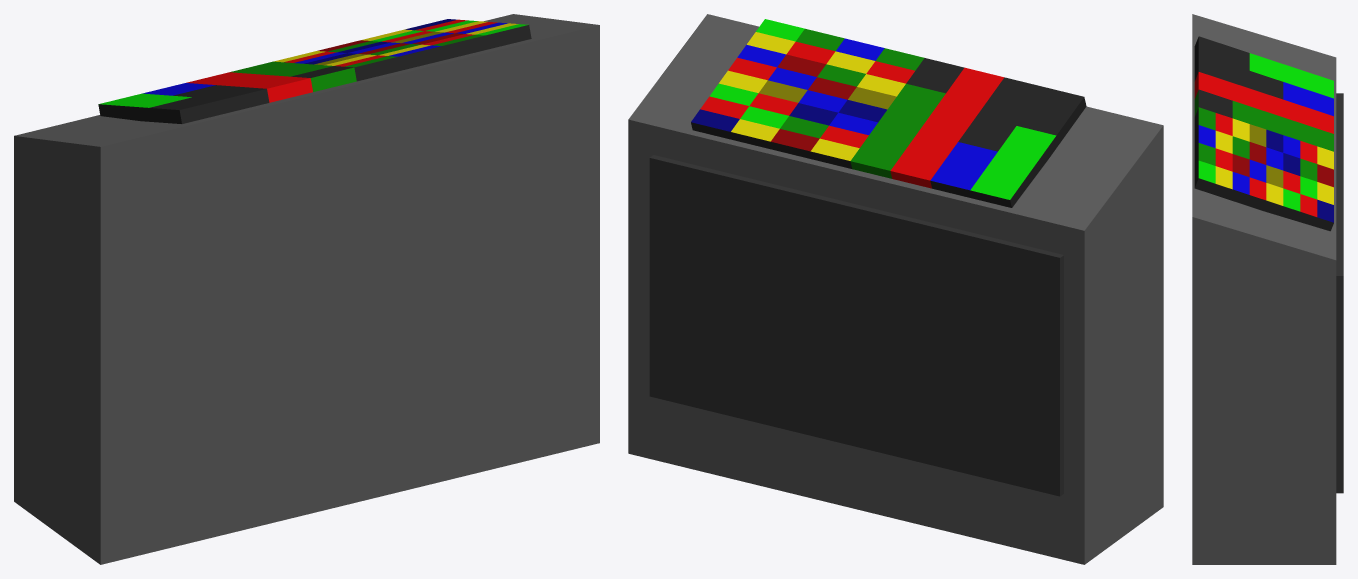
File: kontrol_paneli.fbx
The picture shows the model from 3 angles, left to right: view 1: azimuth 30°, elevation 25°; view 2: azimuth 150°, elevation 25°; view 3: azimuth 270°, elevation 25°; orthographic projection. The views are drawn at different scales.
Visible parts, largest first — view 1: Cube.001; view 2: Cube.001; view 3: Cube.001.
Boxes of the visible parts, <box> form: Cube.001: <box>14,14,599,564</box>; Cube.001: <box>628,14,1163,564</box>; Cube.001: <box>1192,14,1343,564</box>.
Bounding box in the file's own units: 200 × 165 × 63.
